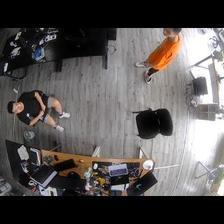normal: (6, 88, 72, 138), (134, 30, 183, 87)
